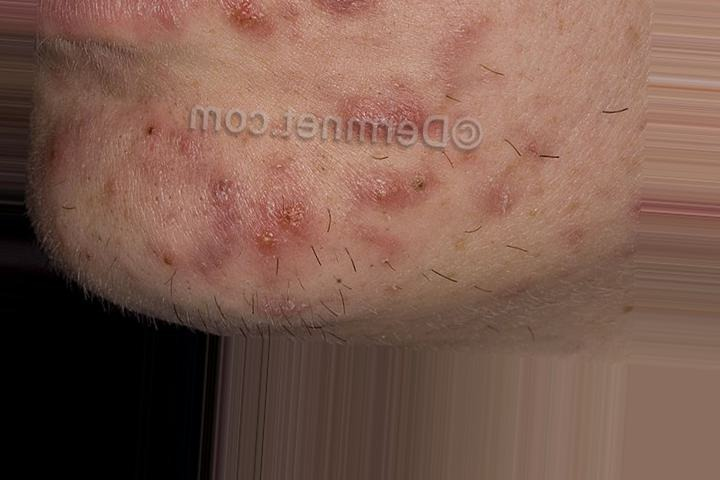Acne: (125, 0, 467, 241)
